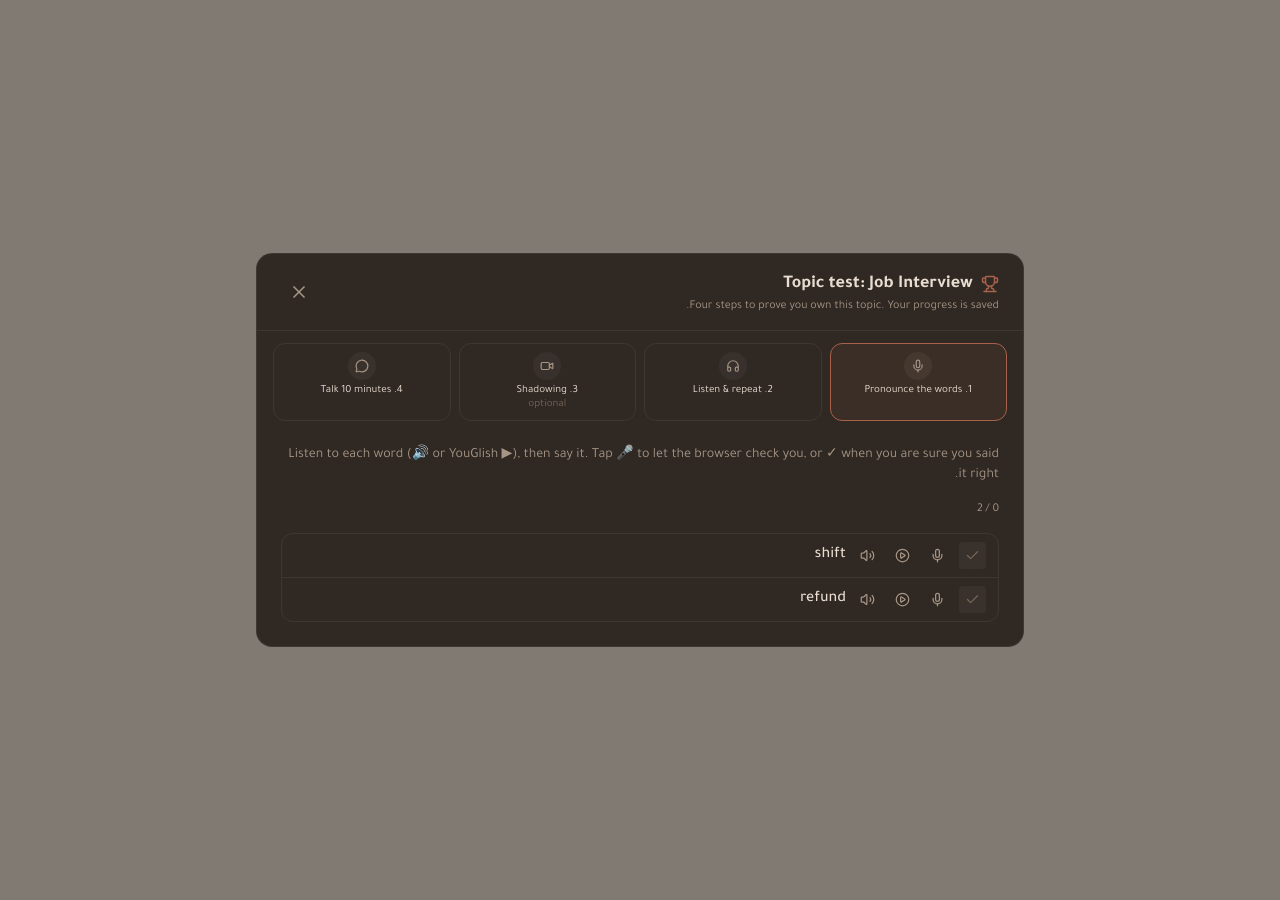
Scenario: TopicChallenge › shows what it heard when the word does not match
What coordinates should you click on to do the following:
click the button named "Say it: refund"
I would click on:
 (938, 599)
Its box is [924,586,951,613].
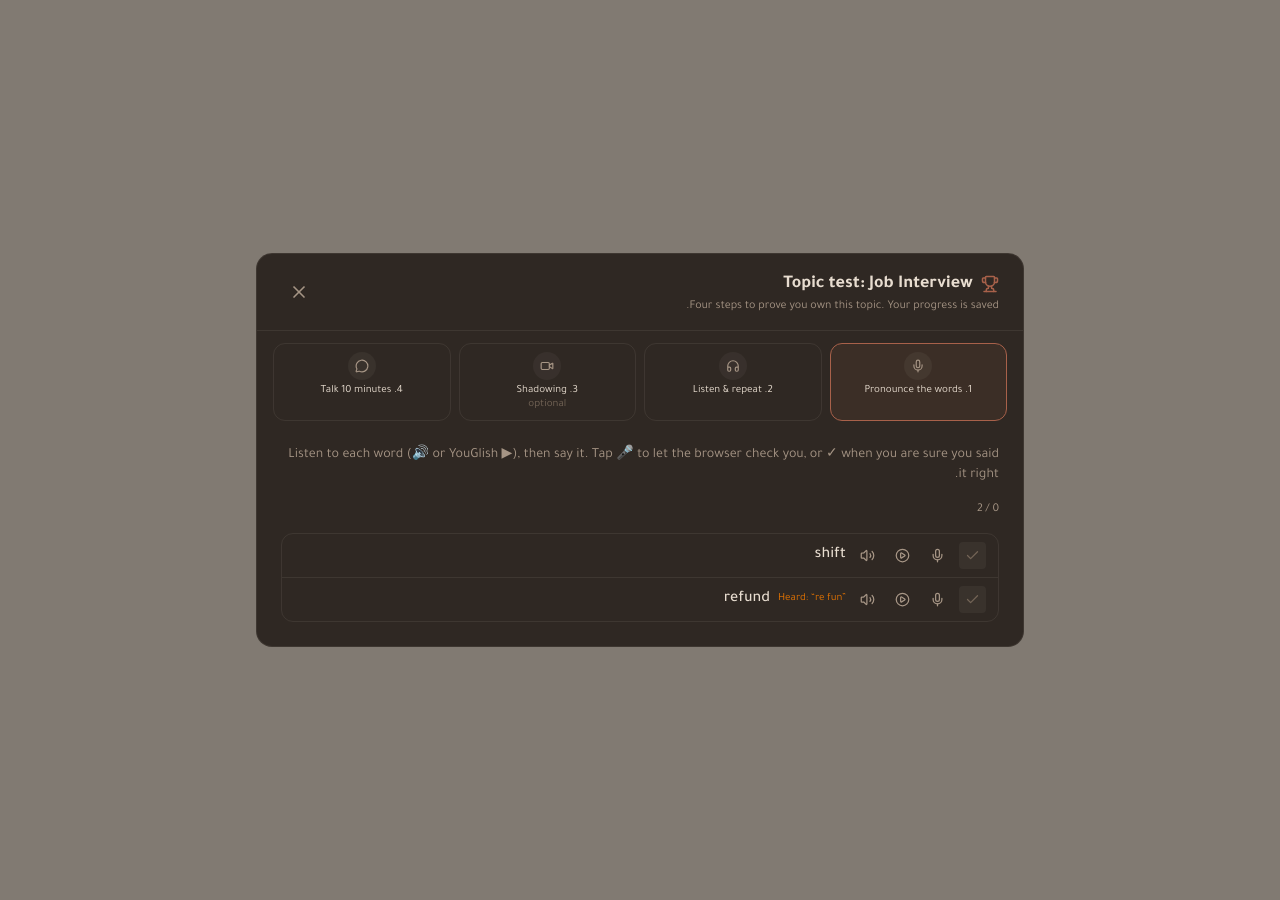
Expected: the text "0 / 2" is shown, [977,503,999,515]
Now the text "Heard: “re fun”" is shown, box [778,591,846,608]
